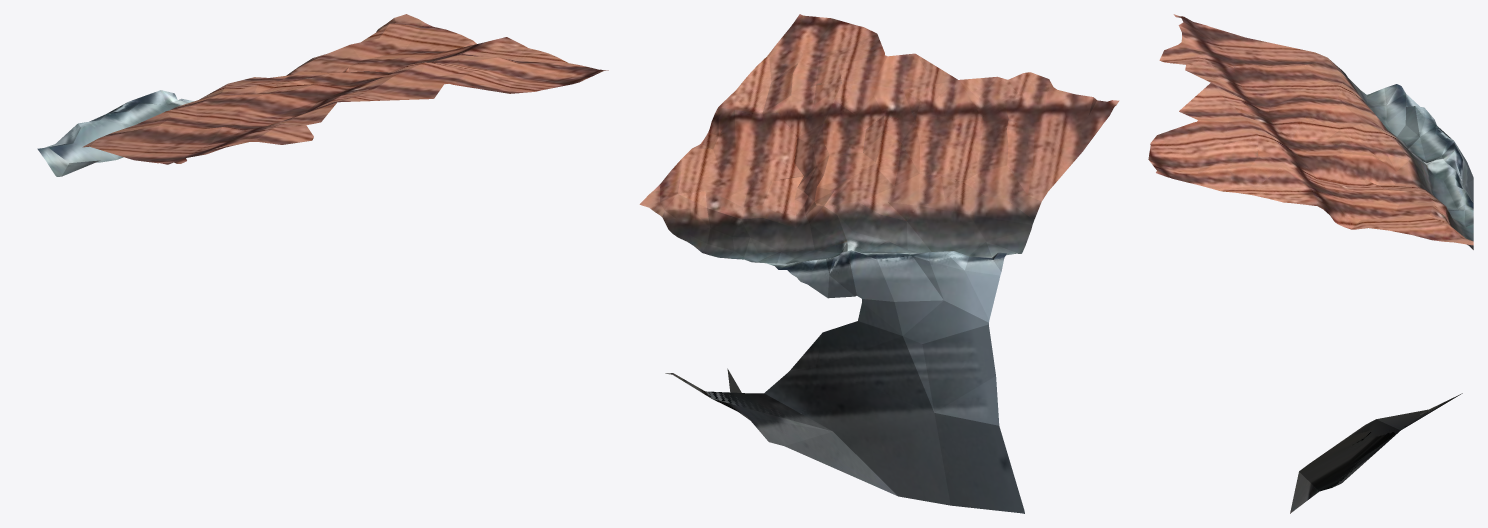
The picture shows the model from 3 angles, left to right: view 1: azimuth 30°, elevation 25°; view 2: azimuth 150°, elevation 25°; view 3: azimuth 270°, elevation 25°; orthographic projection. The views are drawn at different scales.
Size of the model in its own units: 0.8374 by 0.8374 by 0.7236.
3 materials, 3 textured.
